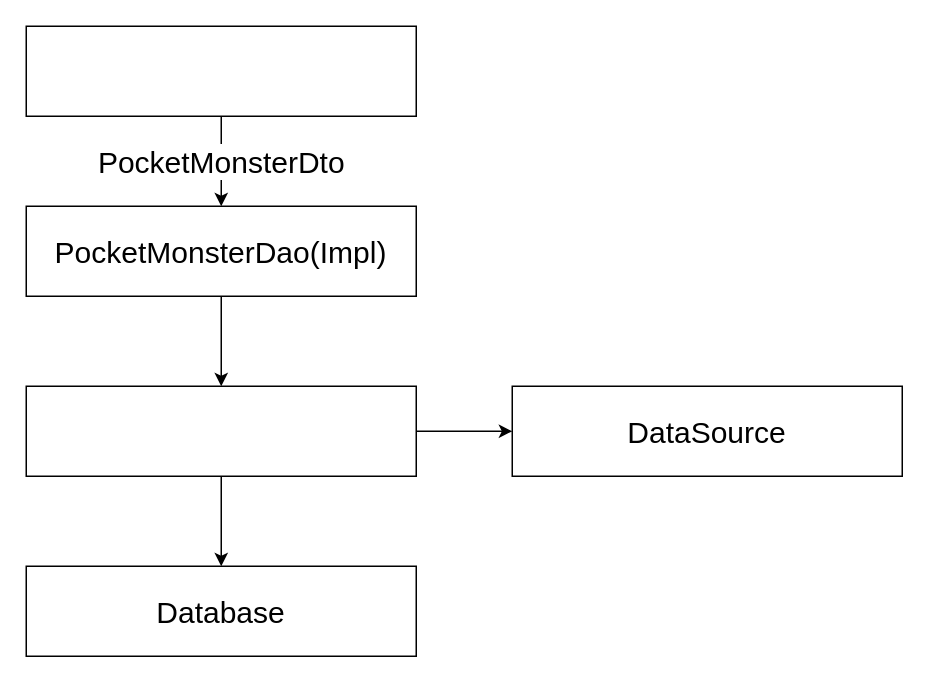
The diagram is 929 pixels wide and 683 high, and some of its shapes have lost their labels. Here are the shapes that lost their labels. From the top down, the box of each, then its label:
(25, 25, 416, 116): PocketMonsterController
(25, 385, 416, 476): JdbcTemplate
